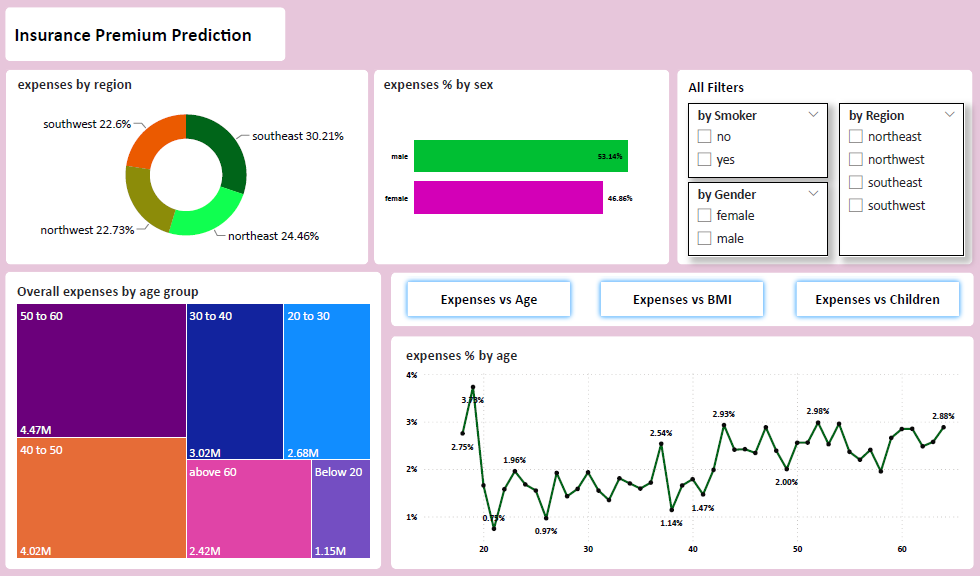

What the dashboard file says about the page in this screenshot:
{"tool":"powerbi","page":{"name":"Dashboard","canvas":[1450,852],"ordinal":0},"visuals":[{"type":"shape","box":[13.2,11.7,412.4,79.3],"z":0},{"type":"shape","box":[13.3,21.7,376.8,58.4],"z":1000},{"type":"shape","box":[581.9,496.9,858.7,343.5],"z":2000},{"type":"shape","box":[13.7,103.8,534.2,287],"z":3000},{"type":"shape","box":[582.2,402.5,858.3,79.8],"z":5000},{"type":"shape","box":[598.6,408.5,255.1,66.7],"z":6000},{"type":"donutChart","title":"expenses by region","fields":{"Category":["insurance.region"],"Y":["All Measures.expenses_ratio %"]},"box":[25.9,113,506.8,265.6],"z":7000},{"type":"shape","box":[557.1,103.8,435,287],"z":8000},{"type":"shape","box":[1004.4,103.8,435,287],"z":9000},{"type":"clusteredBarChart","title":"expenses % by sex","fields":{"Category":["insurance.sex"],"Y":["All Measures.expenses_ratio %"]},"box":[566.3,113,413.7,265.6],"z":10000},{"type":"slicer","fields":{"Values":["insurance.smoker"]},"box":[1019.6,152.6,206.1,109.9],"z":11000},{"type":"shape","box":[1019.6,113,106.8,33.6],"z":12000},{"type":"slicer","fields":{"Values":["insurance.region"]},"box":[1242.5,152.6,184.7,225.9],"z":13000},{"type":"slicer","fields":{"Values":["insurance.sex"]},"box":[1019.6,270.2,206.1,108.4],"z":14000},{"type":"shape","box":[883.7,408.5,255.1,66.7],"z":15000},{"type":"shape","box":[1172.1,408.5,255.1,66.7],"z":16000},{"type":"shape","box":[13.3,401.8,553.5,438.5],"z":17000},{"type":"treemap","title":"Overall expenses by age group","fields":{"Group":["insurance.age_group"],"Values":["All Measures.total_expenses"]},"box":[25,418.5,531.9,410.2],"z":18000},{"type":"lineChart","title":"expenses % by age","fields":{"Category":["insurance.age"],"Y":["All Measures.expenses_ratio %"]},"box":[598.6,511.9,828.7,316.8],"z":18500}]}

Visuals, with their boxes in screenshot pixels (x1, y1, x2, y2), scaled from the page's 1450x852 canvas onto the 980x576 screenshot:
shape: locate(9, 8, 288, 62)
shape: locate(9, 15, 264, 54)
shape: locate(393, 336, 974, 568)
shape: locate(9, 70, 370, 264)
shape: locate(393, 272, 974, 326)
shape: locate(405, 276, 577, 321)
"expenses by region" donutChart: locate(18, 76, 360, 256)
shape: locate(377, 70, 671, 264)
shape: locate(679, 70, 973, 264)
"expenses % by sex" clusteredBarChart: locate(383, 76, 662, 256)
slicer - insurance.smoker: locate(689, 103, 828, 177)
shape: locate(689, 76, 761, 99)
slicer - insurance.region: locate(840, 103, 965, 256)
slicer - insurance.sex: locate(689, 183, 828, 256)
shape: locate(597, 276, 770, 321)
shape: locate(792, 276, 965, 321)
shape: locate(9, 272, 383, 568)
"Overall expenses by age group" treemap: locate(17, 283, 376, 560)
"expenses % by age" lineChart: locate(405, 346, 965, 560)
